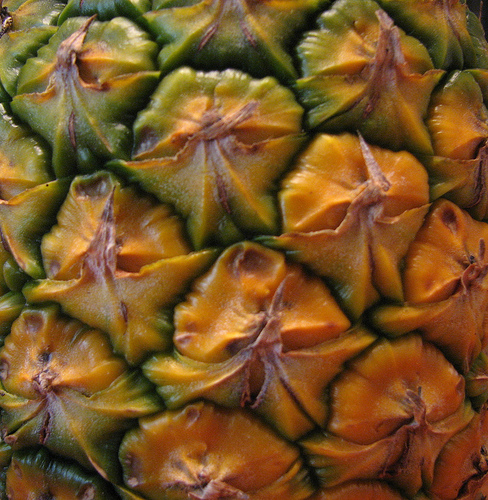pineapple: (0, 0, 486, 498)
